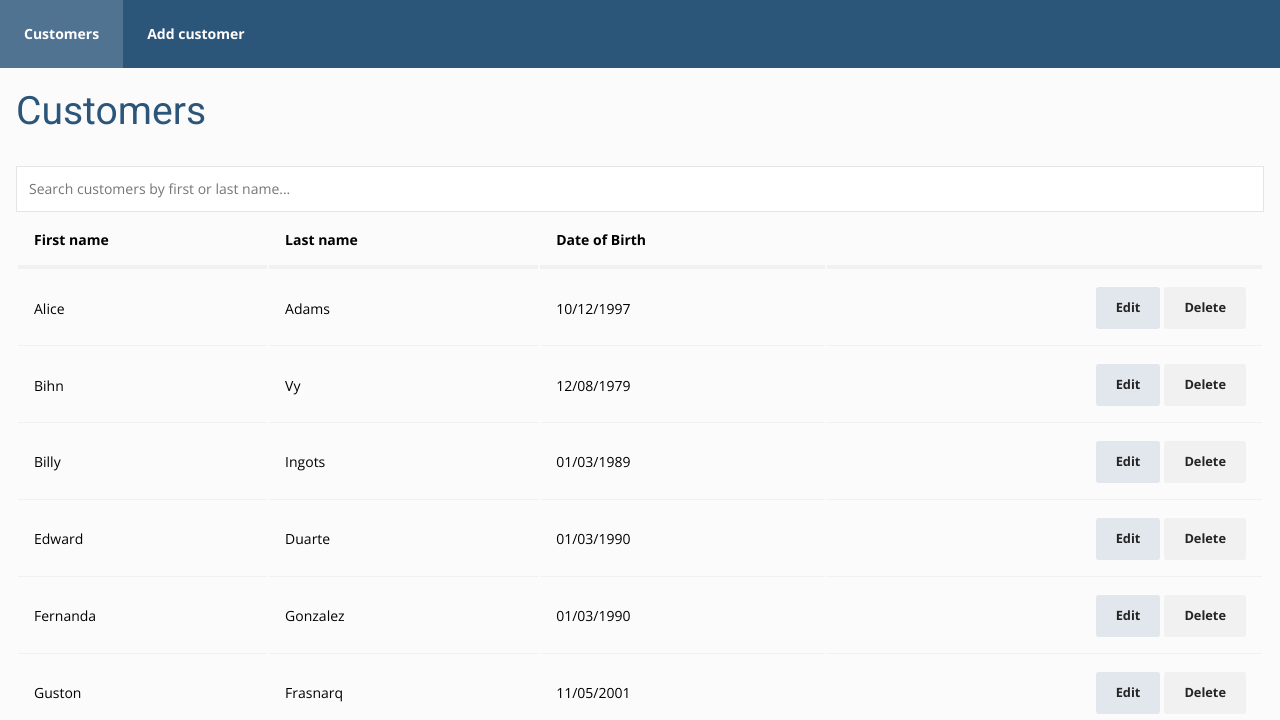
Search › Clicking edit, will take you to the Edit page and display a customers details
The width and height of the screenshot is (1280, 720).
Type "bi" into the field with test id "search" at (640, 189), box [16,166,1264,212]
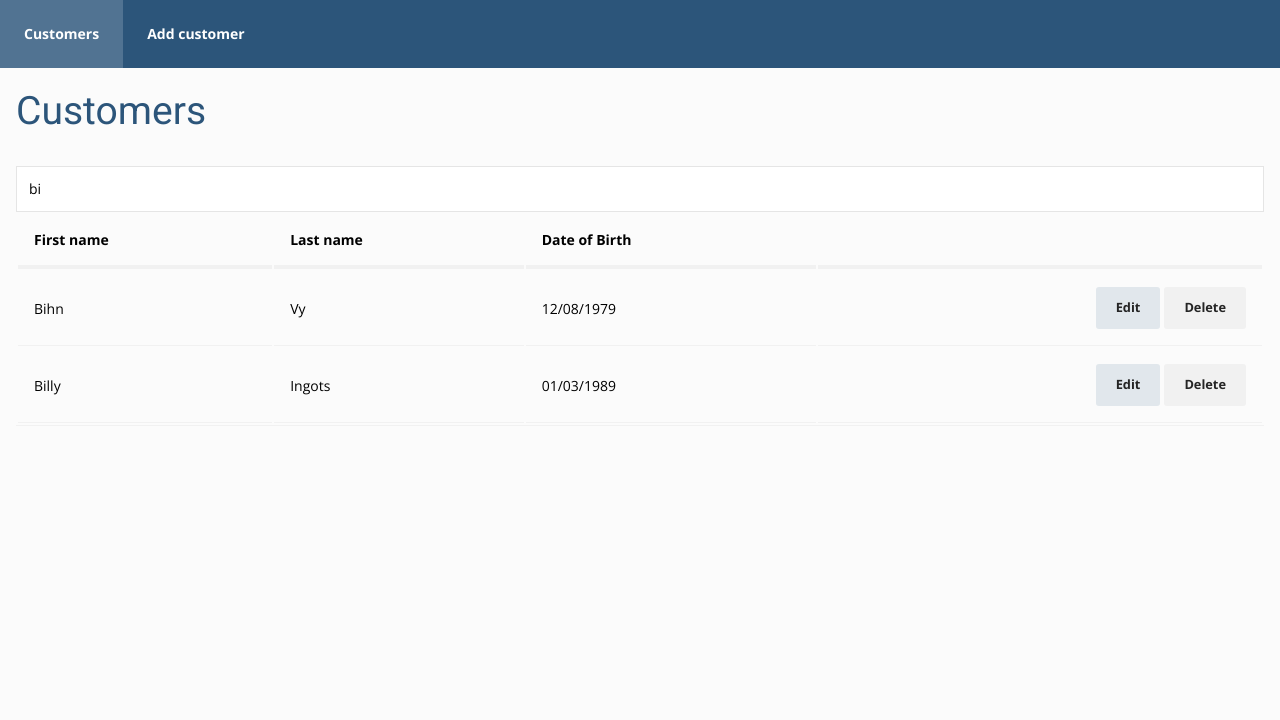
Now the number of rows is 3, box [18,214,1262,270]; [18,272,1262,346]; [18,348,1262,423]
Now the row "Bihn Vy 12/08/1979 Edit Delete" is shown, box [18,272,1262,346]
